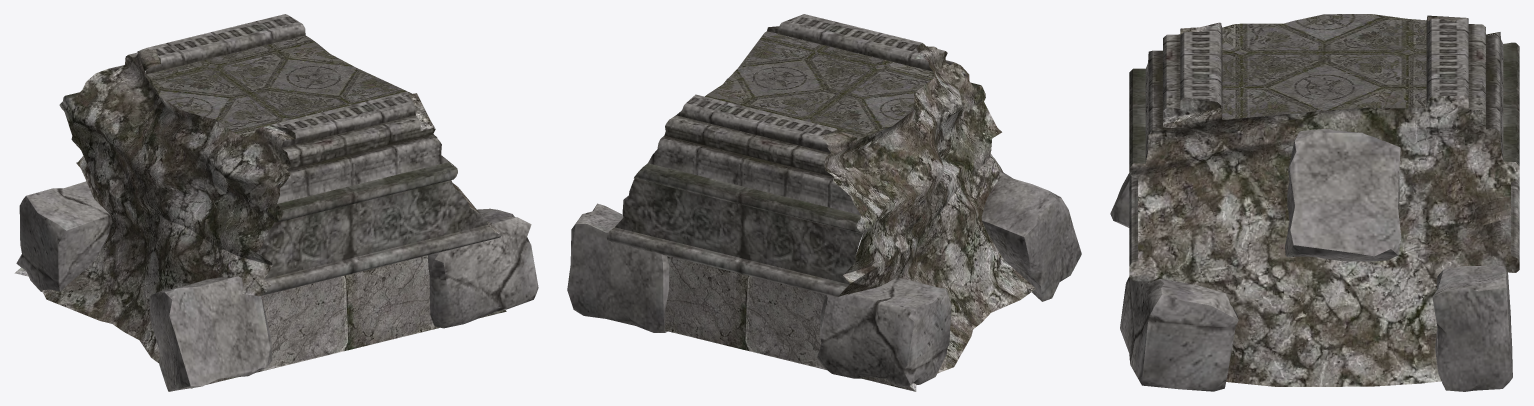
File: eso_ss1_column5_1-transformed.glb
The picture shows the model from 3 angles, left to right: view 1: azimuth 30°, elevation 25°; view 2: azimuth 150°, elevation 25°; view 3: azimuth 270°, elevation 25°; orthographic projection. The views are drawn at different scales.
Parts seen in each view (by area): view 1: default; view 2: default; view 3: default.
Boxes of the visible parts, bbox=[...] form: default: bbox=[14, 14, 538, 391]; default: bbox=[567, 14, 1081, 391]; default: bbox=[1110, 14, 1519, 391].
Bounding box in the file's own units: 6.98 × 4.13 × 6.01.
Materials: 5 (5 with a texture image).
